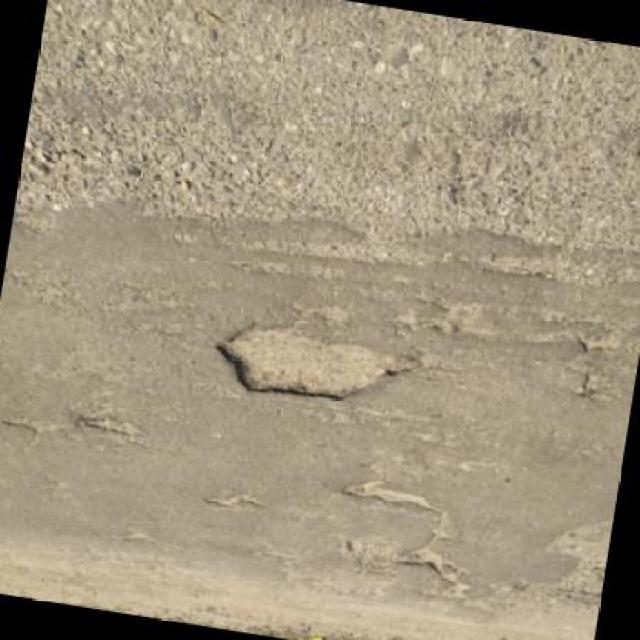pothole1: (206, 314, 420, 420), (391, 542, 472, 590), (335, 480, 448, 514)
